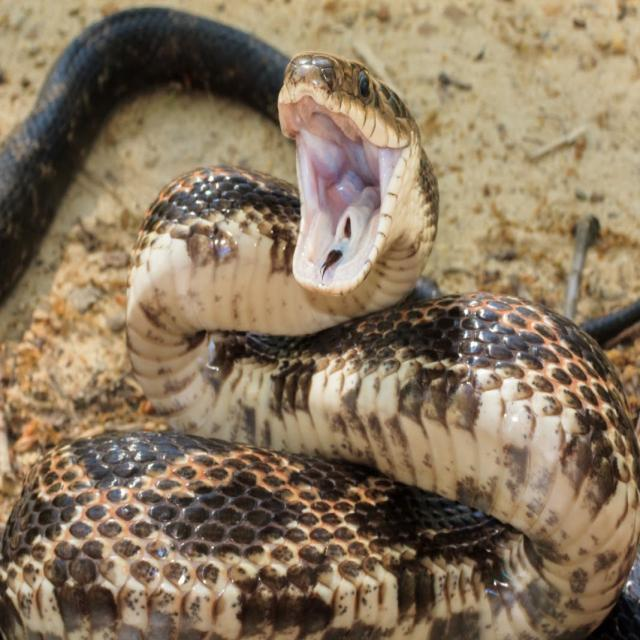Snake: (0, 38, 640, 640)
